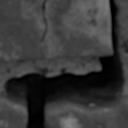brick: (0, 0, 111, 60)
broken_brick: (47, 94, 127, 127), (0, 94, 25, 127)
crack: (1, 0, 127, 127)
